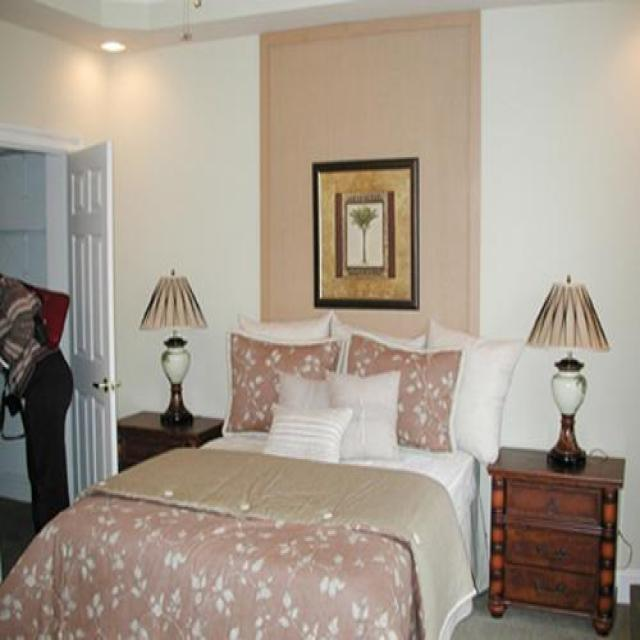cupboard: (485, 445, 625, 635)
door: (66, 138, 116, 504)
lamps: (525, 273, 609, 468), (138, 268, 208, 427)
plants: (348, 203, 378, 265)
